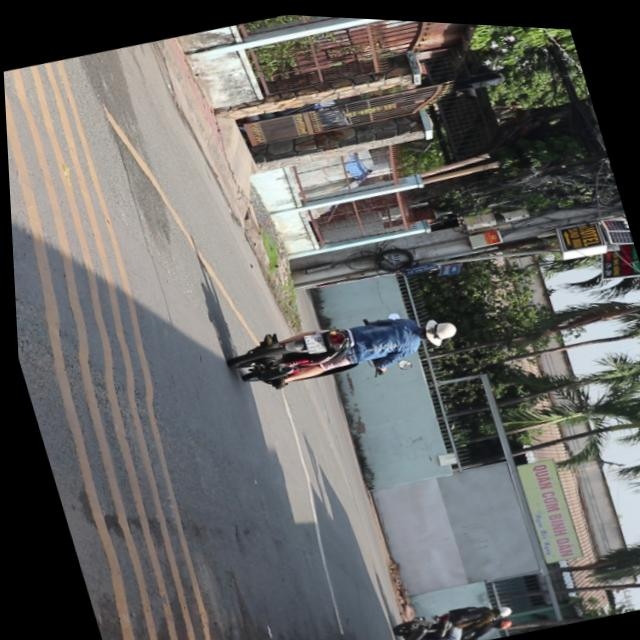licenseplate: (220, 280, 466, 404)
motorcyclist: (410, 307, 457, 344)
nohelmet: (300, 327, 324, 350)
